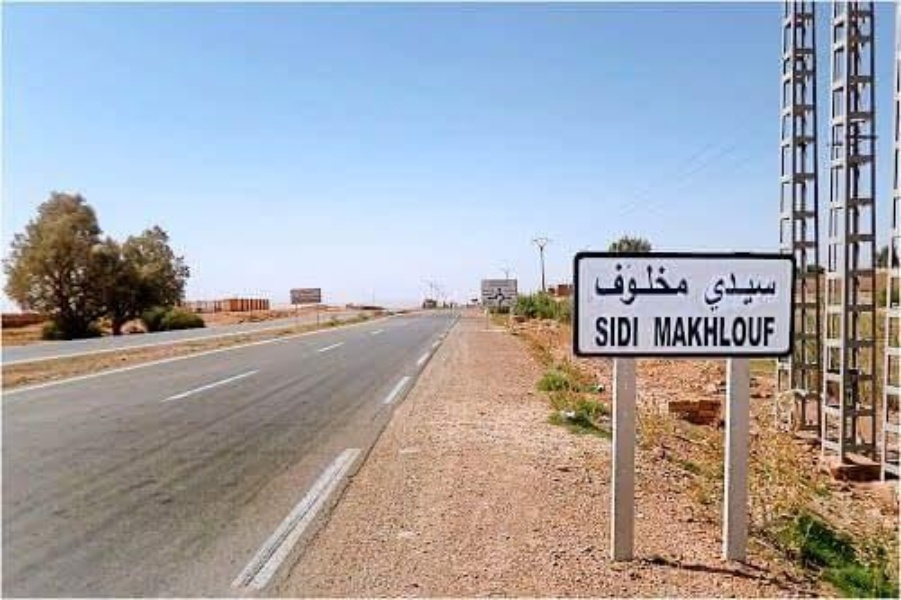text: (673, 264, 689, 307), (593, 264, 608, 307), (609, 264, 624, 307), (625, 264, 640, 307), (641, 264, 656, 307), (657, 264, 672, 307), (705, 273, 720, 312), (721, 273, 736, 312), (737, 273, 752, 312), (753, 273, 768, 312), (609, 316, 624, 348), (625, 316, 640, 348), (657, 316, 672, 348), (673, 316, 688, 348), (689, 316, 704, 348), (705, 316, 720, 348), (721, 316, 736, 348), (737, 316, 752, 348), (753, 316, 768, 348), (595, 316, 608, 348), (769, 273, 777, 312), (769, 316, 775, 348), (701, 273, 704, 312), (653, 316, 656, 348)
